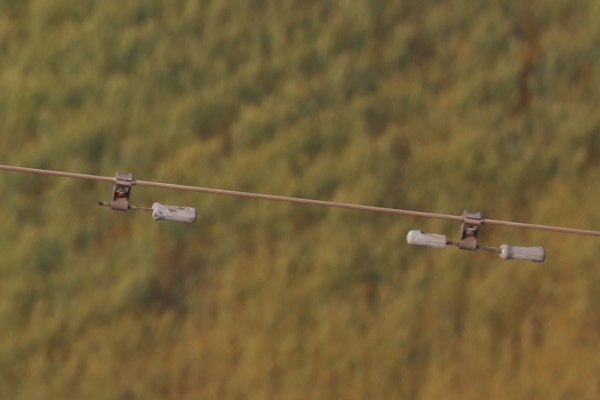damper: (400, 204, 548, 263)
damper_defect: (96, 168, 202, 229)
